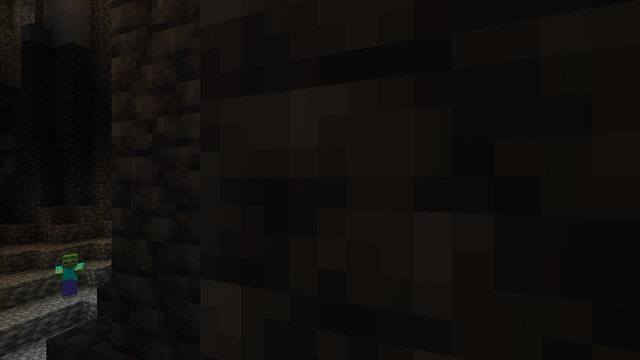zombies: (58, 254, 81, 300)
